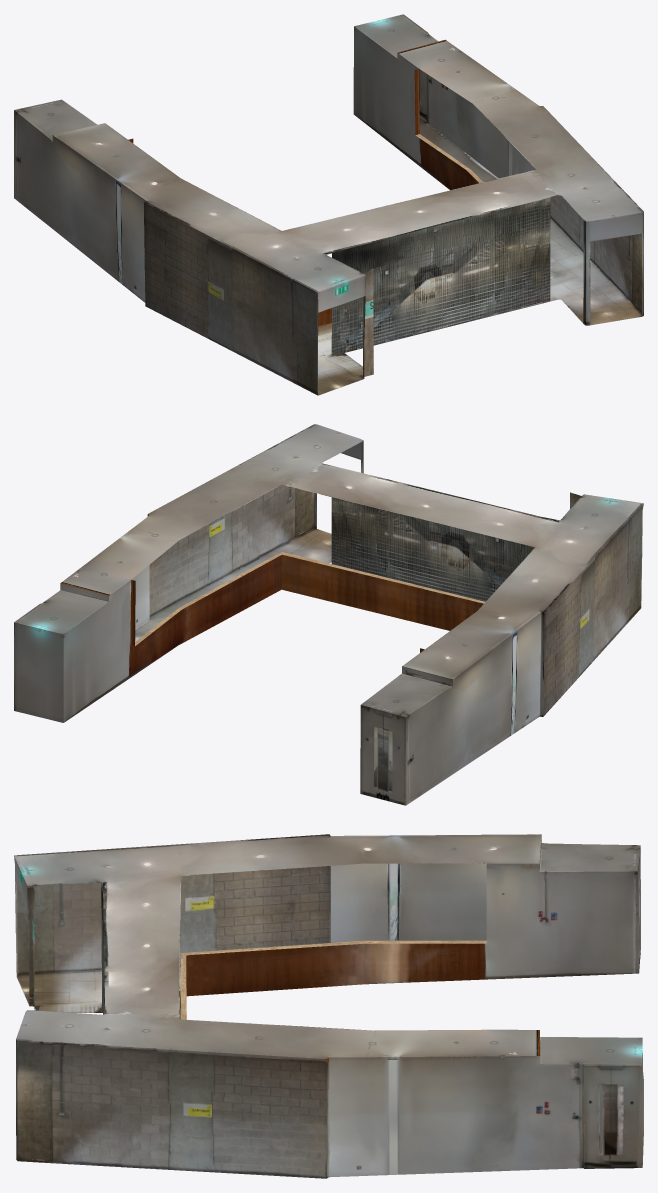
File: 2-ring-new_LP.fbx
The picture shows the model from 3 angles, top to bottom: view 1: azimuth 30°, elevation 25°; view 2: azimuth 150°, elevation 25°; view 3: azimuth 270°, elevation 25°; orthographic projection. The views are drawn at different scales.
Visible parts, largest first — view 1: 2-ring-new_LP; view 2: 2-ring-new_LP; view 3: 2-ring-new_LP.
Boxes of the visible parts, <box> form: 2-ring-new_LP: <box>14,14,643,395</box>; 2-ring-new_LP: <box>14,424,643,805</box>; 2-ring-new_LP: <box>14,834,643,1178</box>.
Bounding box in the file's own units: 1223 × 312 × 1448.
Materials: 1 (1 with a texture image).
